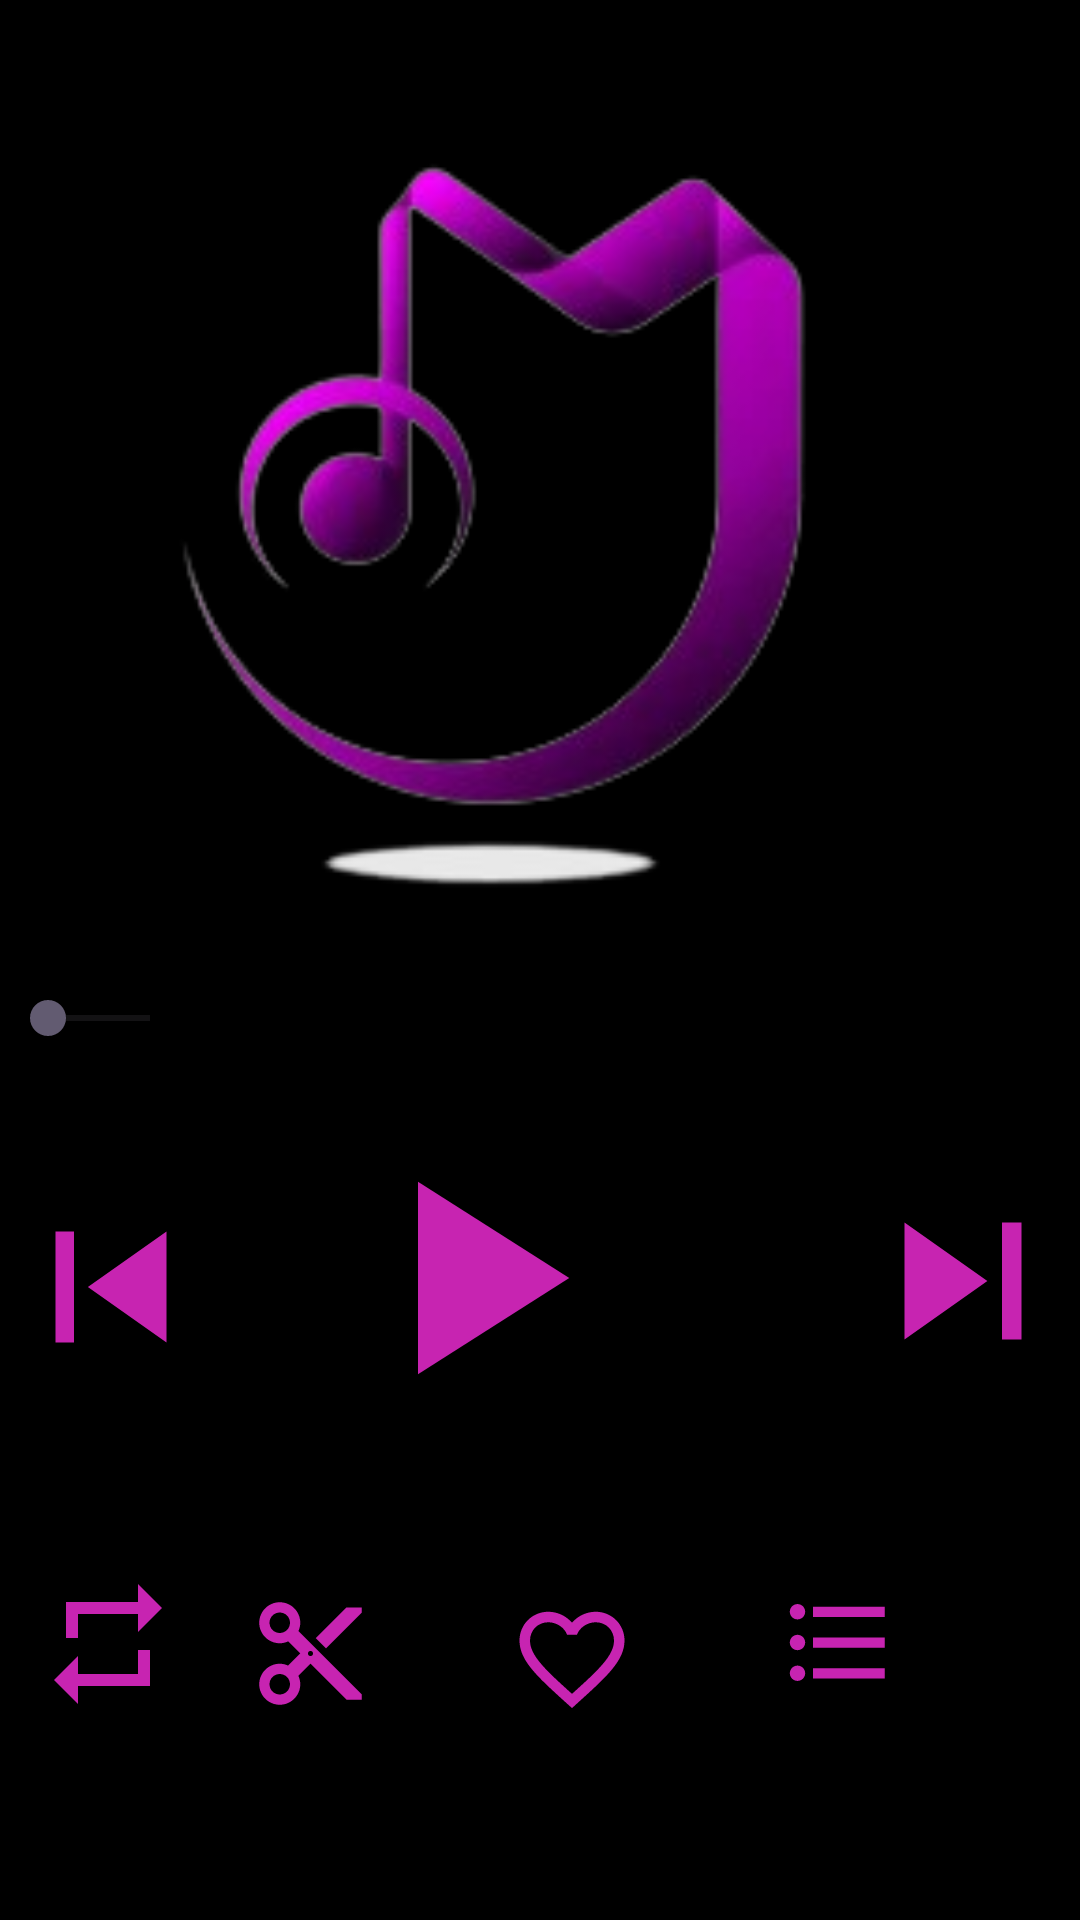

Where icons sit on this 1080*1920 app screen, as (x1, y1, x2, y2):
content cut: (259, 1602, 362, 1705)
favorite border: (519, 1611, 625, 1708)
format list bulleted: (789, 1604, 885, 1681)
play arrow: (418, 1182, 569, 1374)
repeat: (54, 1584, 162, 1704)
skip next: (904, 1222, 1022, 1340)
skip previous: (55, 1231, 167, 1343)
